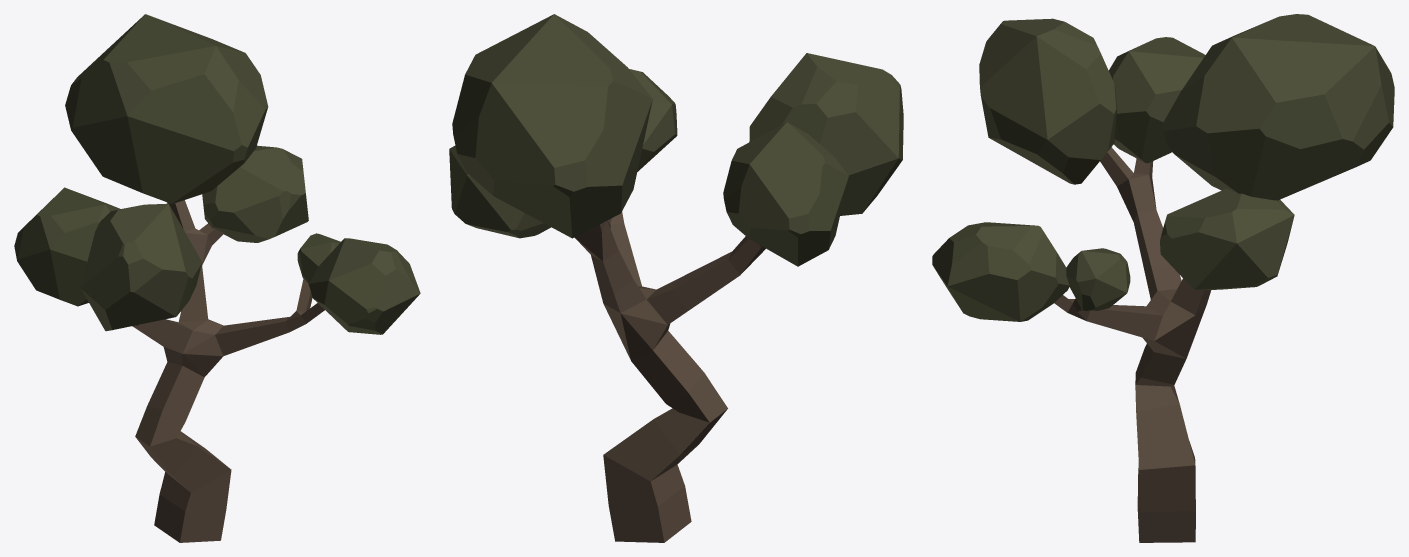
The model's file is tree1.fbx.
3 views of the same model, side by side, from view 1: azimuth 30°, elevation 25°; view 2: azimuth 150°, elevation 25°; view 3: azimuth 270°, elevation 25° (orthographic). The views are drawn at different scales.
Visible parts, largest first — view 1: Cube; view 2: Cube; view 3: Cube.
Boxes of the visible parts, box(x1,y1,x2,y2) form: Cube: box(14, 14, 420, 542); Cube: box(449, 14, 903, 542); Cube: box(932, 14, 1394, 542).
Size of the model in its own units: 849 by 1196 by 955.
